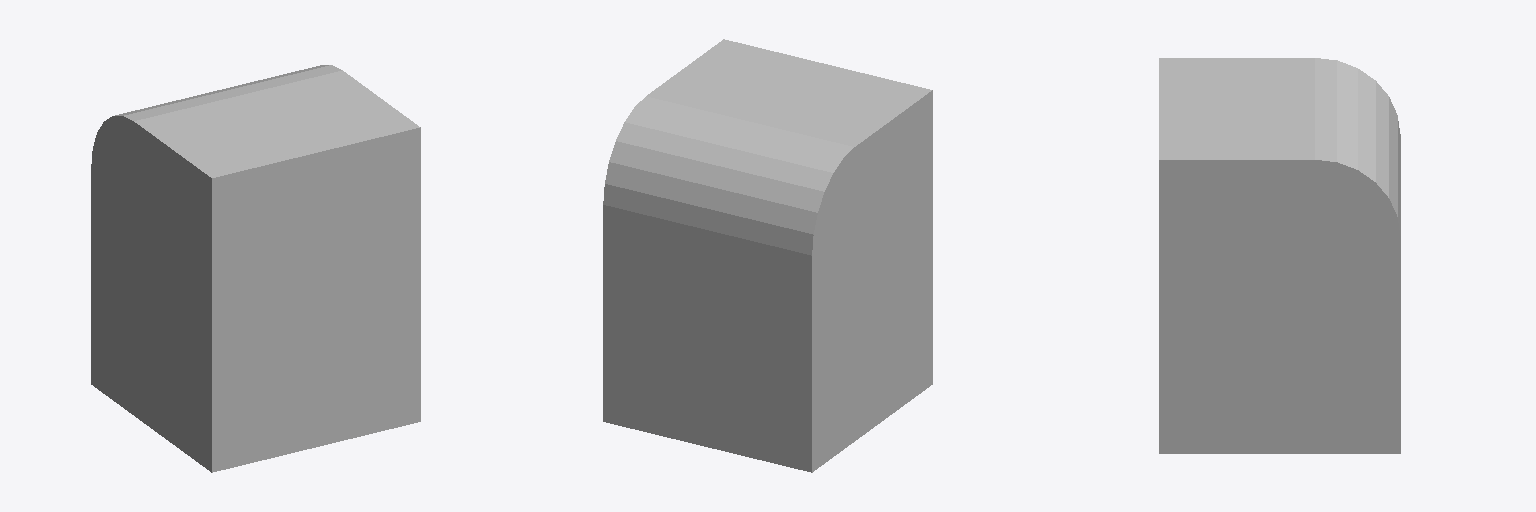
File: structure.obj
The picture shows the model from 3 angles: view 1: azimuth 30°, elevation 25°; view 2: azimuth 150°, elevation 25°; view 3: azimuth 270°, elevation 25°; orthographic projection.
Visible parts, largest first — view 1: Cube_Cube.001; view 2: Cube_Cube.001; view 3: Cube_Cube.001.
Boxes of the visible parts, x1,y1,x2,y2 form: Cube_Cube.001: [91, 65, 420, 472]; Cube_Cube.001: [603, 39, 932, 472]; Cube_Cube.001: [1159, 58, 1400, 453].
Size of the model in its own units: 4 by 5.39 by 4.